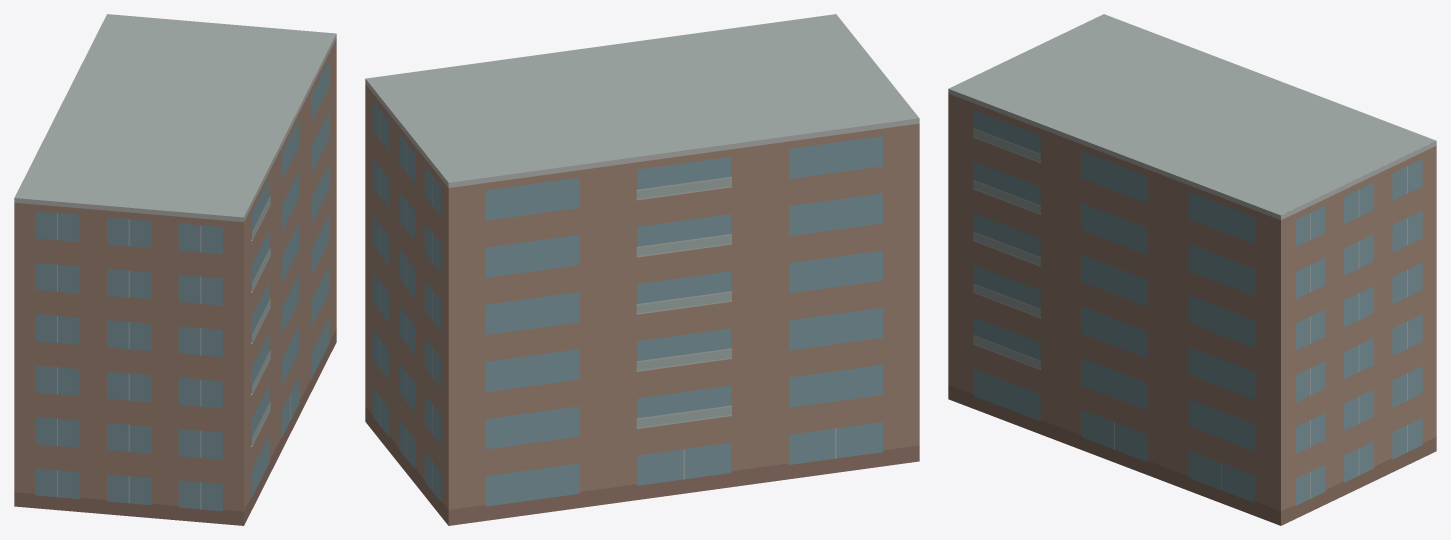
File: survey-upis-33028114.glb
3 renders of one model, left to right at view 1: azimuth 30°, elevation 25°; view 2: azimuth 150°, elevation 25°; view 3: azimuth 270°, elevation 25°, orthographic. The views are drawn at different scales.
Parts seen in each view (by area): view 1: survey-upis-33028114.tmp; view 2: survey-upis-33028114.tmp; view 3: survey-upis-33028114.tmp.
Part boxes in pixels (x1,y1,x2,y2): survey-upis-33028114.tmp: (14,14,336,525); survey-upis-33028114.tmp: (365,14,919,525); survey-upis-33028114.tmp: (948,14,1436,525).
Bounding box in the file's own units: 22.14 × 15.9 × 22.68.
